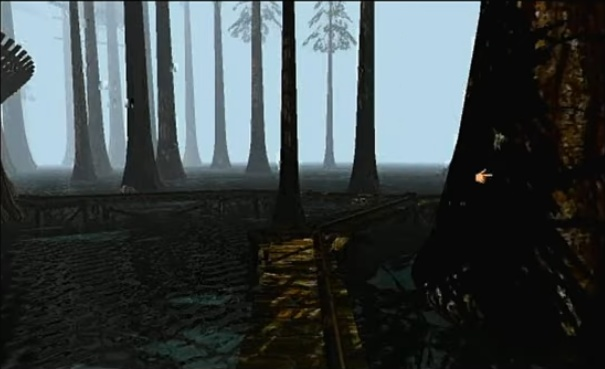Pointer: (473, 164, 495, 185)
